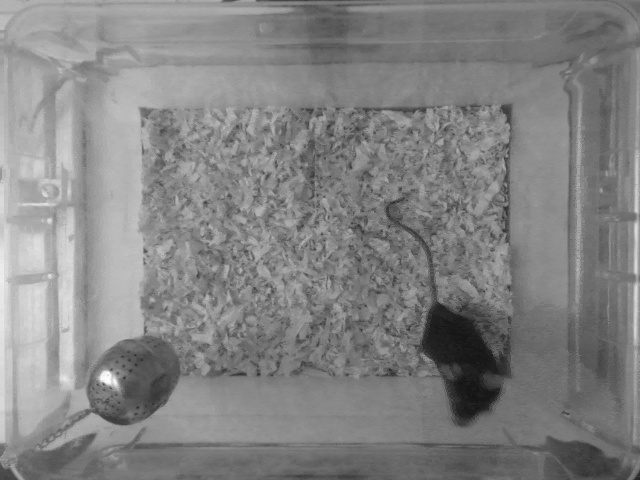mice: (384, 196, 504, 427)
